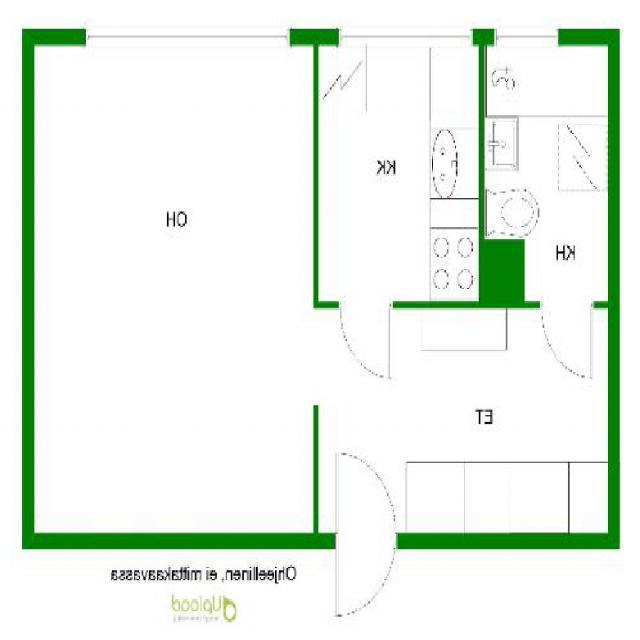door: (336, 533, 396, 629), (336, 452, 396, 548), (542, 300, 592, 374), (342, 300, 390, 372)
